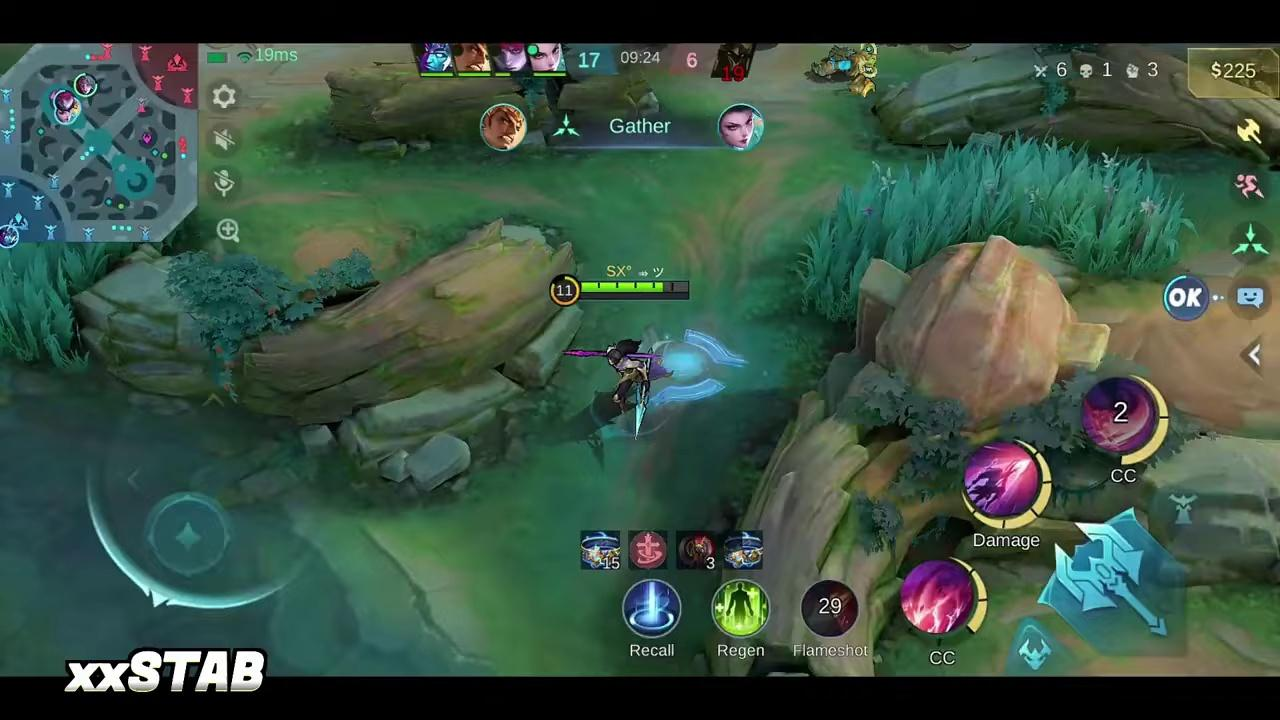Adc_Aliado: (54, 107, 78, 125)
Arbusto: (785, 141, 1180, 327), (0, 244, 117, 367)
Arlott: (550, 334, 684, 444)
Exp_Aliado: (72, 72, 100, 94)
HP_Heroe_Principal: (584, 282, 691, 292)
Jungla_Aliado: (51, 86, 76, 112)
Mid_Aliado: (0, 226, 21, 252)
Minimapa: (5, 44, 195, 241)
Roamer_Aliado: (66, 98, 83, 115)
Skill1: (897, 563, 979, 636)
Skill2: (962, 436, 1042, 524)
